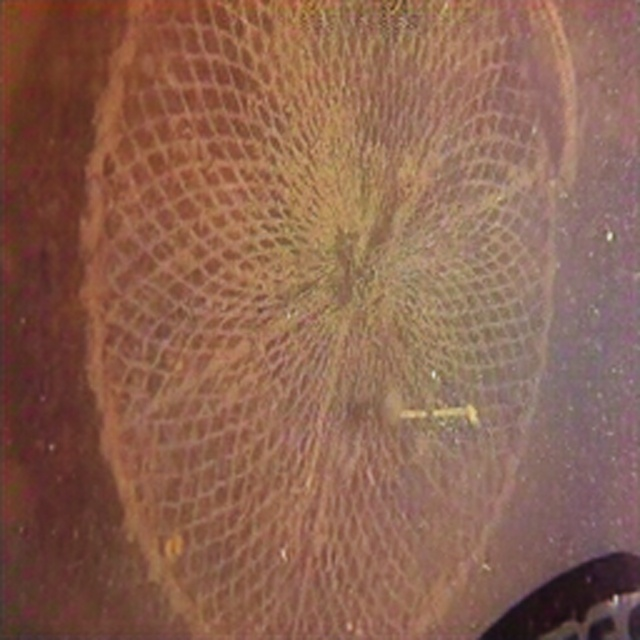mine: (79, 0, 558, 640)
